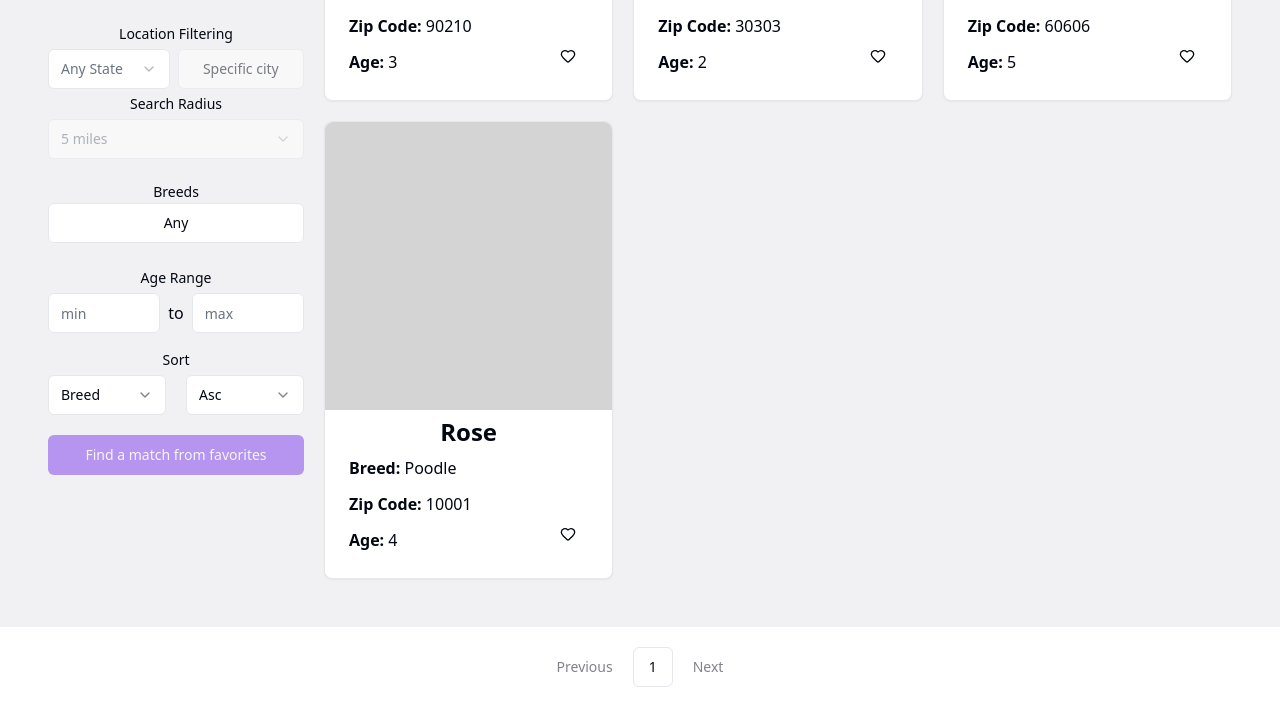
Test case: DogSearch › Find match button › should be disabled when favorites list is empty and enabled when list is not empty
The image size is (1280, 707).
(page scrolled)
Expected: the button "Find a match from favorites" is disabled, [48, 435, 304, 475]
Click the button named "Add Rose, Poodle, located in zip code 10001 to favorites lis": (568, 534) [548, 514, 588, 554]
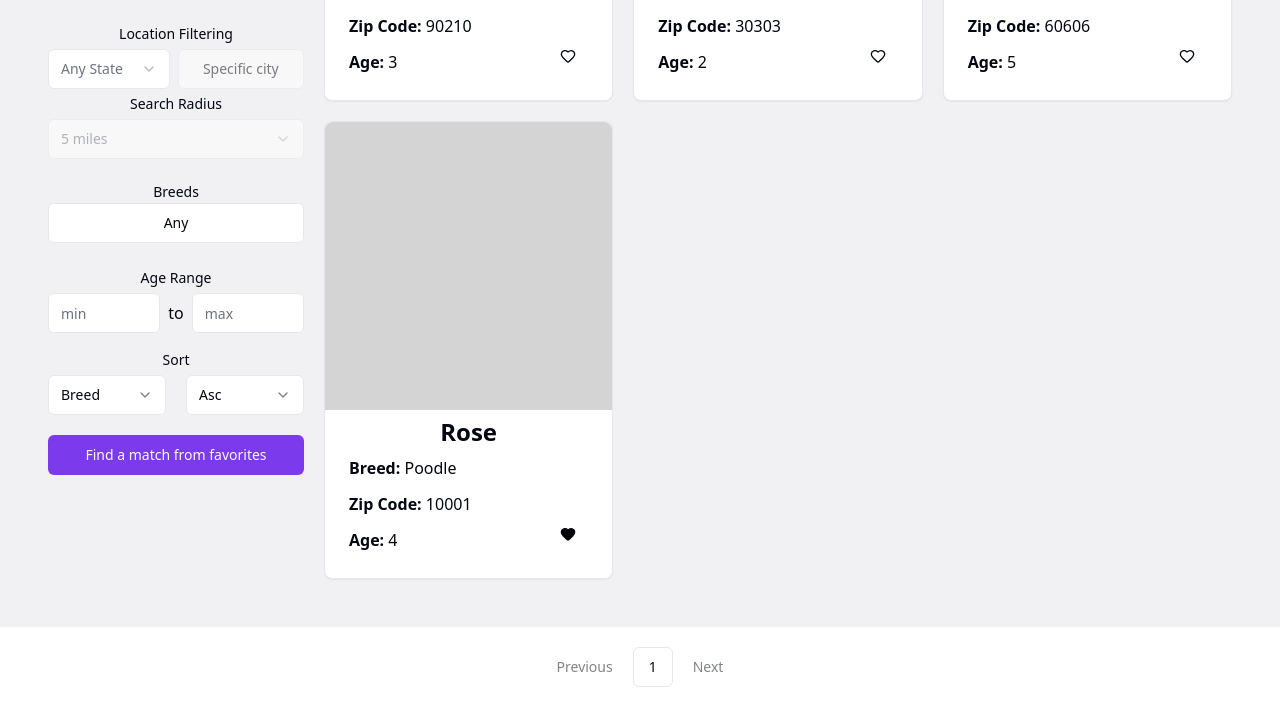
Expected: the button "Find a match from favorites" is enabled, [48, 435, 304, 475]
